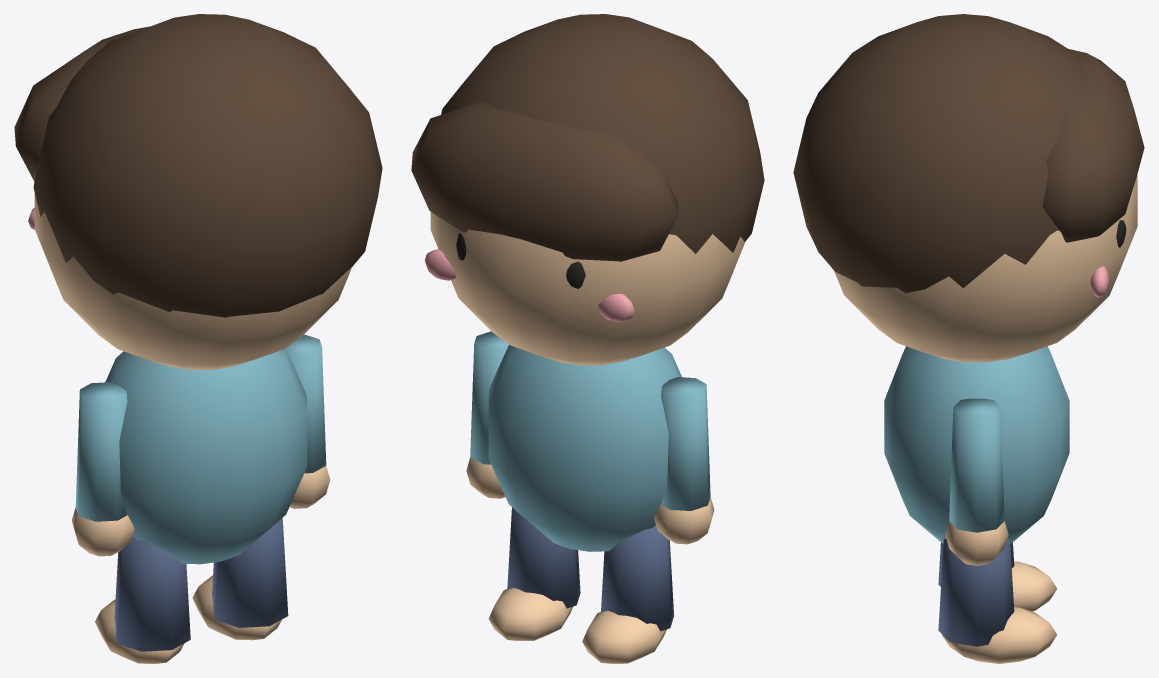
Rendered from xy_char_avatar.glb.
The picture shows the model from 3 angles, left to right: view 1: azimuth 30°, elevation 25°; view 2: azimuth 150°, elevation 25°; view 3: azimuth 270°, elevation 25°; orthographic projection. The views are drawn at different scales.
Parts seen in each view (by area): view 1: Body, LegL, ArmL, LegR, ArmR; view 2: Body, LegL, LegR, ArmL, ArmR; view 3: Body, LegR, ArmR, LegL.
Boxes of the visible parts, x1,y1,x2,y2 form: Body: (14, 14, 382, 564); LegL: (95, 536, 190, 663); ArmL: (71, 382, 134, 556); LegR: (192, 518, 288, 640); ArmR: (285, 334, 330, 508); Body: (411, 14, 764, 551); LegL: (582, 525, 673, 663); LegR: (488, 507, 580, 640); ArmL: (654, 377, 714, 544); ArmR: (466, 331, 508, 498); Body: (793, 14, 1144, 543); LegR: (938, 538, 1057, 663); ArmR: (945, 398, 1008, 565); LegL: (938, 542, 1057, 611).
Size of the model in its own units: 0.75 by 1.47 by 0.775.
